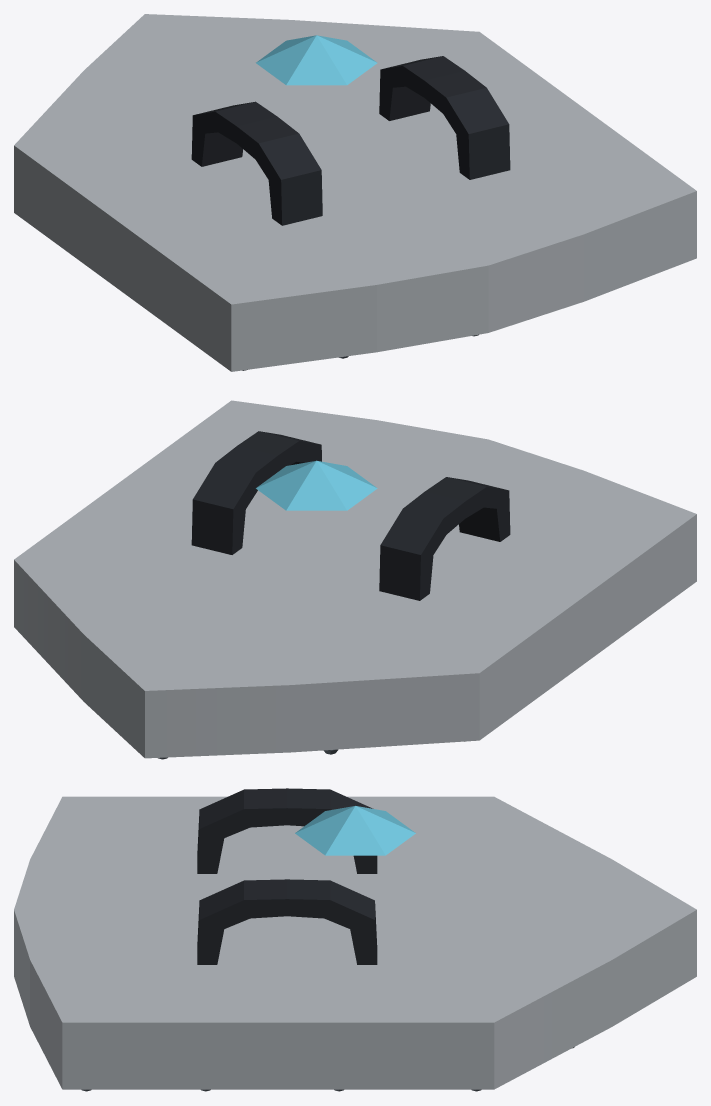
File: crystadium-medium-shield.glb
3 renders of one model, top to bottom at view 1: azimuth 30°, elevation 25°; view 2: azimuth 150°, elevation 25°; view 3: azimuth 270°, elevation 25°, orthographic.
Parts seen in each view (by area): view 1: m; view 2: m; view 3: m.
Boxes of the visible parts, box(x1,y1,x2,y2) form: m: box(14, 14, 696, 371); m: box(14, 400, 696, 759); m: box(14, 788, 696, 1091).
Size of the model in its own units: 0.45 by 0.1693 by 0.5754.
